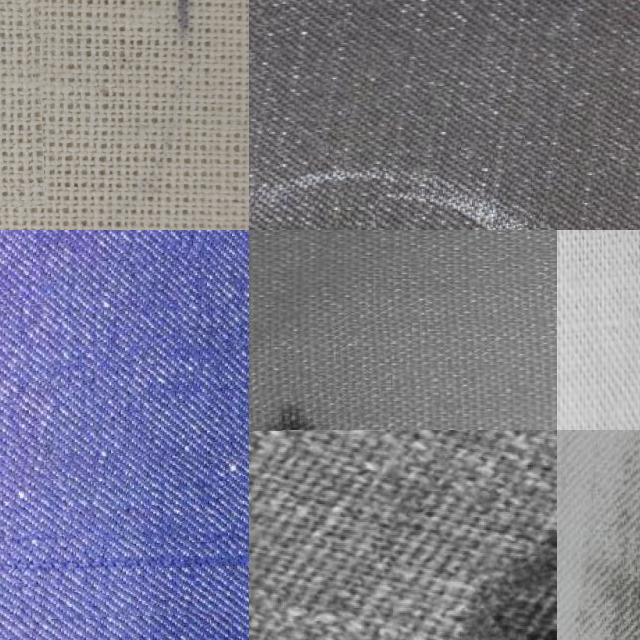Thread_other: (557, 429, 640, 640), (249, 388, 361, 430)
stains: (0, 447, 249, 615)
